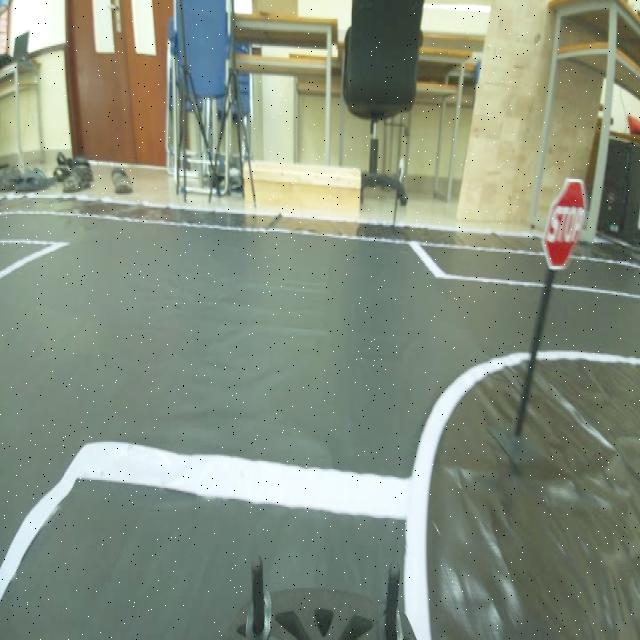stop: (542, 168, 588, 277)
